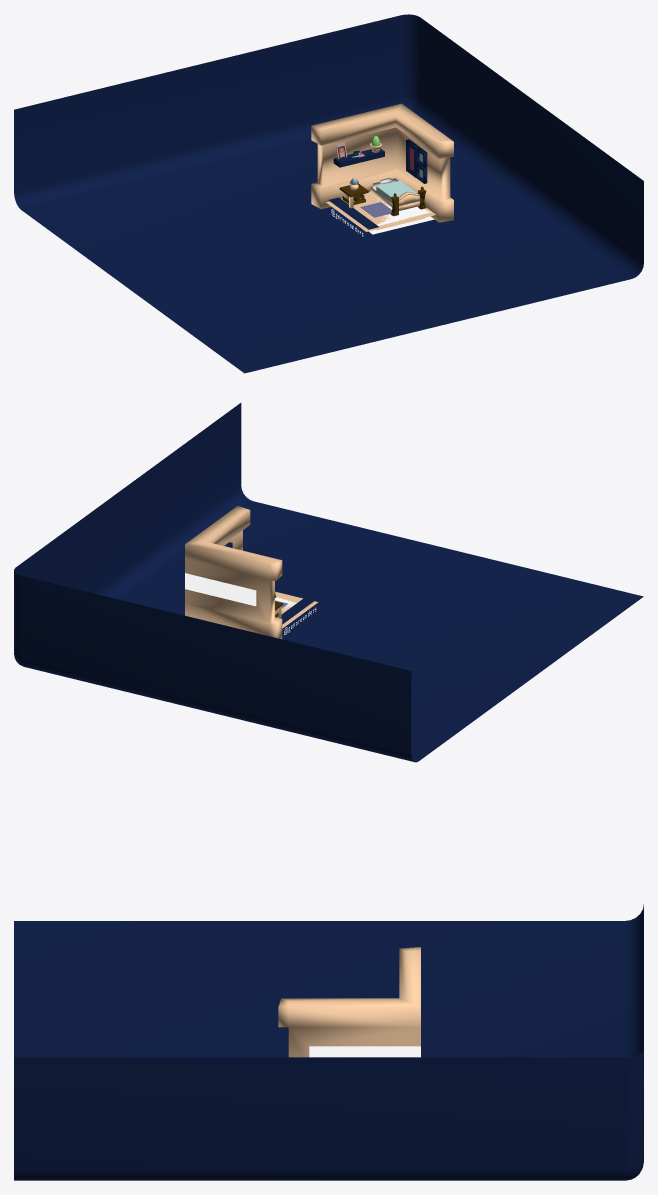
The model's file is ROOMFirst.glb.
The picture shows the model from 3 angles, top to bottom: view 1: azimuth 30°, elevation 25°; view 2: azimuth 150°, elevation 25°; view 3: azimuth 270°, elevation 25°; orthographic projection. The views are drawn at different scales.
Visible parts, largest first — view 1: Plane.016, Cube.018, Plane; view 2: Plane.016, Cube.018; view 3: Plane.016, Cube.018.
Boxes of the visible parts, x1,y1,x2,y2 form: Plane.016: (14, 14, 643, 373); Cube.018: (311, 103, 453, 222); Plane: (326, 191, 435, 231); Plane.016: (14, 403, 643, 762); Cube.018: (185, 506, 282, 639); Plane.016: (14, 904, 643, 1180); Cube.018: (278, 947, 420, 1057).
Bounding box in the file's own units: 10.67 × 2.43 × 10.67.
